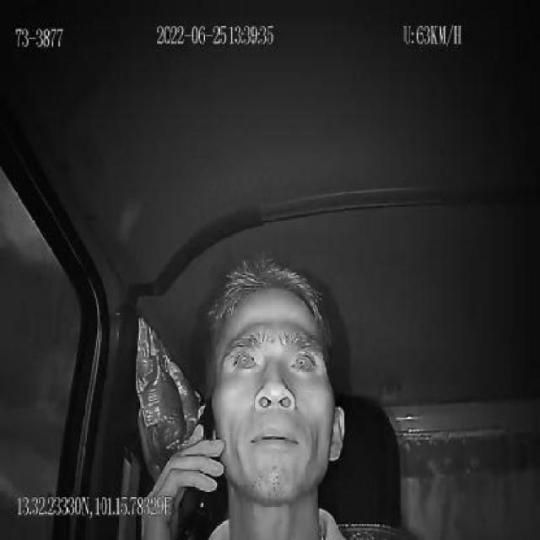phone: (173, 395, 214, 540)
